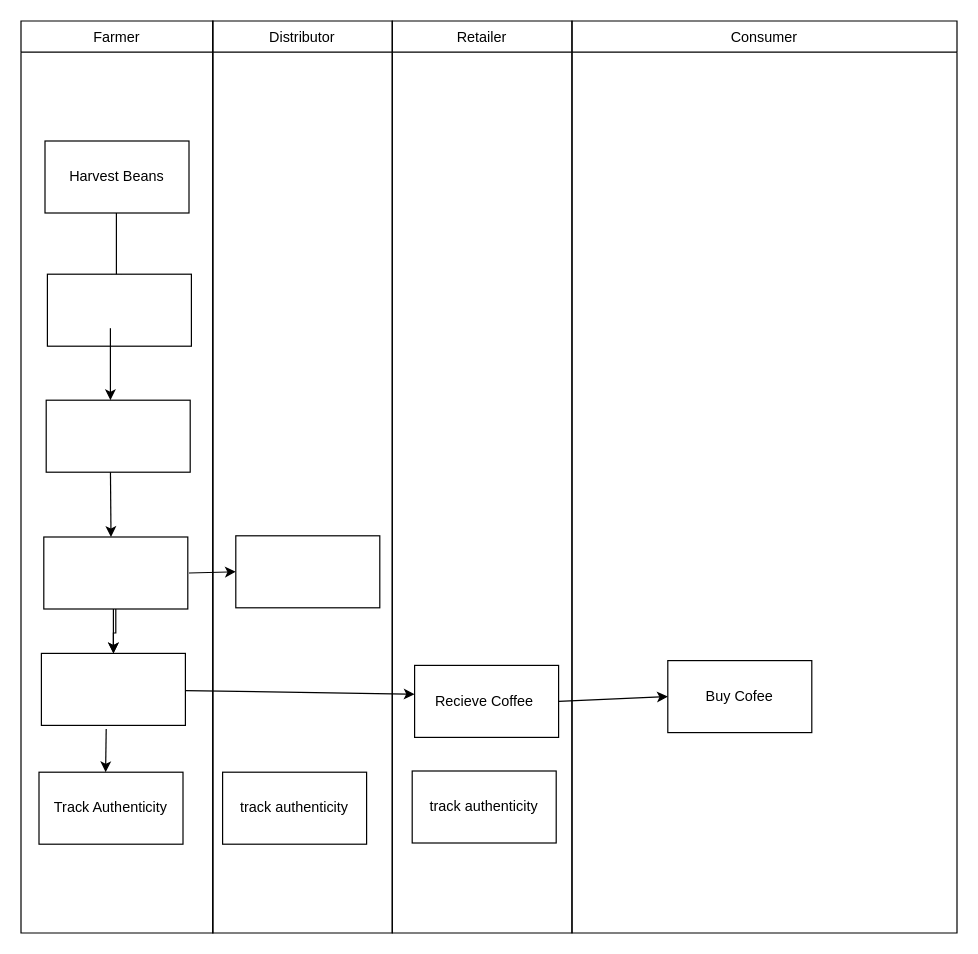
This 978x954 diagram has some shape labels left out. The centre of each missing label's shape, as x and y in pixels:
"Add Coffee palletes" belongs at [115,572].
"Buy Coffee Palettes" belongs at [307,571].
"Pack beans" belongs at [117,435].
"Process Beans" belongs at [118,309].
"Ship Coffee" belongs at [112,688].
